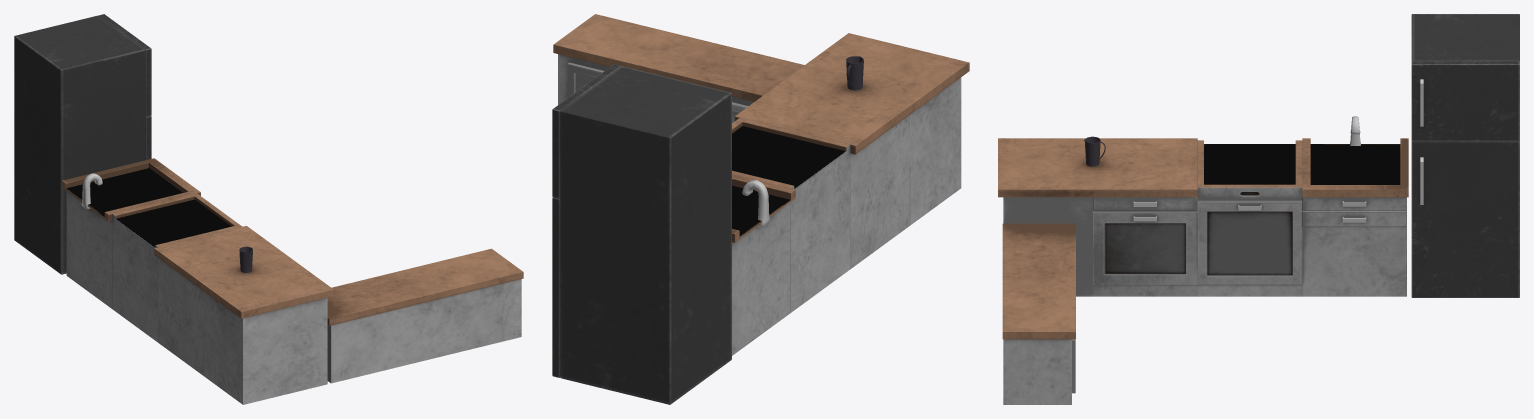
Rendered from Dapur2.fbx.
3 renders of one model, left to right at view 1: azimuth 30°, elevation 25°; view 2: azimuth 150°, elevation 25°; view 3: azimuth 270°, elevation 25°, orthographic. The views are drawn at different scales.
Visible parts, largest first — view 1: Plane.017, Plane.003, Plane, Plane.006, Plane.005, Plane.013, Plane.012, Plane.015, Plane.004, Plane.026; view 2: Plane.017, Plane.006, Plane.005, Plane.013, Plane.004, Plane.015, Plane, Plane.012, Plane.018, Plane.026, Plane.014, Plane.003 (+2 smaller); view 3: Plane.018, Plane.005, Plane.006, Plane.015, Plane.004, Plane.026, Plane.013, Plane.012, Plane.017, Plane.003, Plane, Circle.
Part boxes in pixels (<box>): Plane.017: <box>14,15,145,274</box>; Plane.003: <box>327,279,521,383</box>; Plane: <box>204,291,327,404</box>; Plane.006: <box>154,226,333,318</box>; Plane.005: <box>112,193,241,342</box>; Plane.013: <box>327,248,523,325</box>; Plane.012: <box>62,158,200,221</box>; Plane.015: <box>66,191,112,308</box>; Plane.004: <box>158,258,203,375</box>; Plane.026: <box>99,14,151,116</box>; Plane.017: <box>560,66,731,404</box>; Plane.006: <box>734,33,969,154</box>; Plane.005: <box>732,118,850,312</box>; Plane.013: <box>553,14,804,101</box>; Plane.004: <box>850,115,909,268</box>; Plane.015: <box>732,203,790,355</box>; Plane: <box>910,77,961,225</box>; Plane.012: <box>732,174,795,242</box>; Plane.018: <box>552,197,560,377</box>; Plane.026: <box>552,64,621,198</box>; Plane.014: <box>567,62,748,123</box>; Plane.003: <box>558,54,753,105</box>; Plane.018: <box>1411,141,1519,297</box>; Plane.005: <box>1197,140,1302,296</box>; Plane.006: <box>998,138,1197,197</box>; Plane.015: <box>1302,197,1406,296</box>; Plane.004: <box>1093,197,1197,296</box>; Plane.026: <box>1411,61,1519,141</box>; Plane.013: <box>1002,223,1075,339</box>; Plane.012: <box>1302,138,1408,197</box>; Plane.017: <box>1411,14,1519,61</box>; Plane.003: <box>1003,339,1071,404</box>; Plane: <box>1003,197,1092,296</box>; Circle: <box>1084,136,1105,166</box>.
Size of the model in its own units: 437 by 299 by 604.
